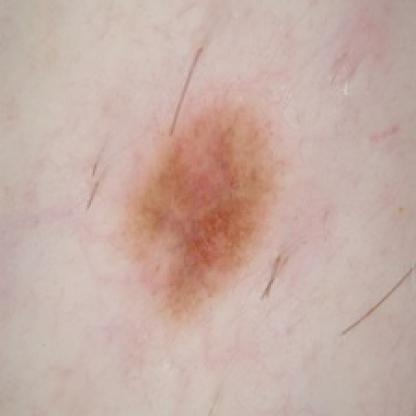malignant: (119, 102, 286, 292)
